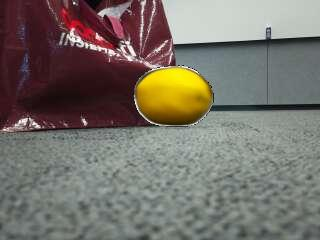lemon: (138, 68, 213, 125)
